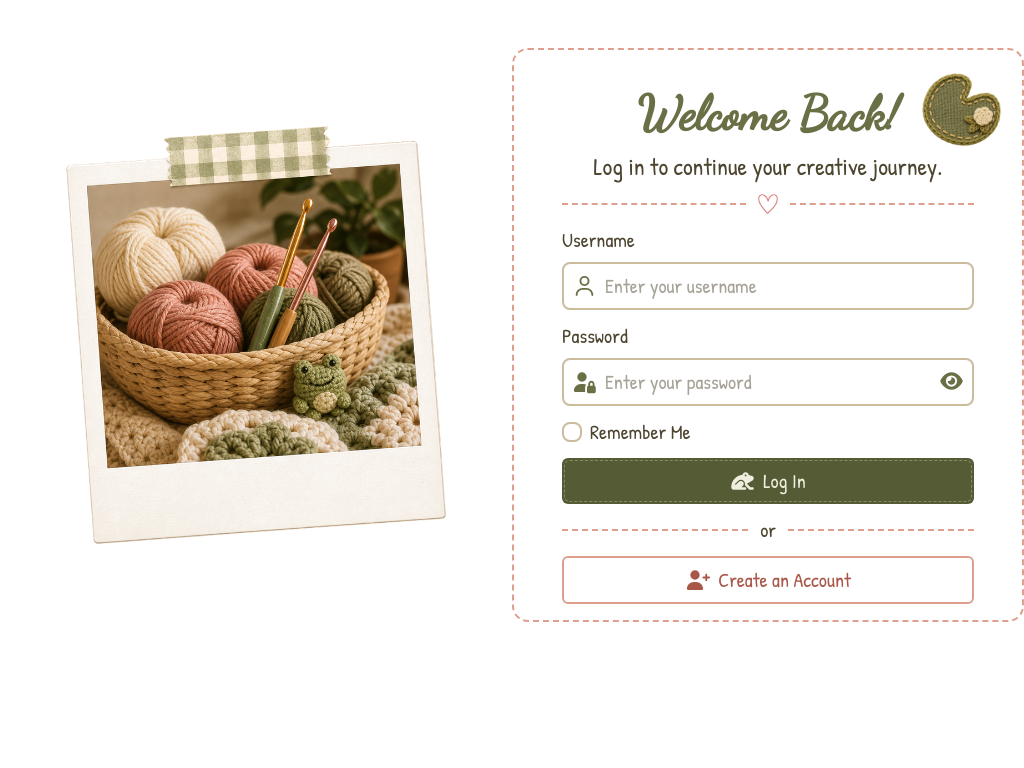
Scenario: Login › validates required credentials before submitting
Click the button "Log In". click: (768, 481)
box: [562,458,974,504]
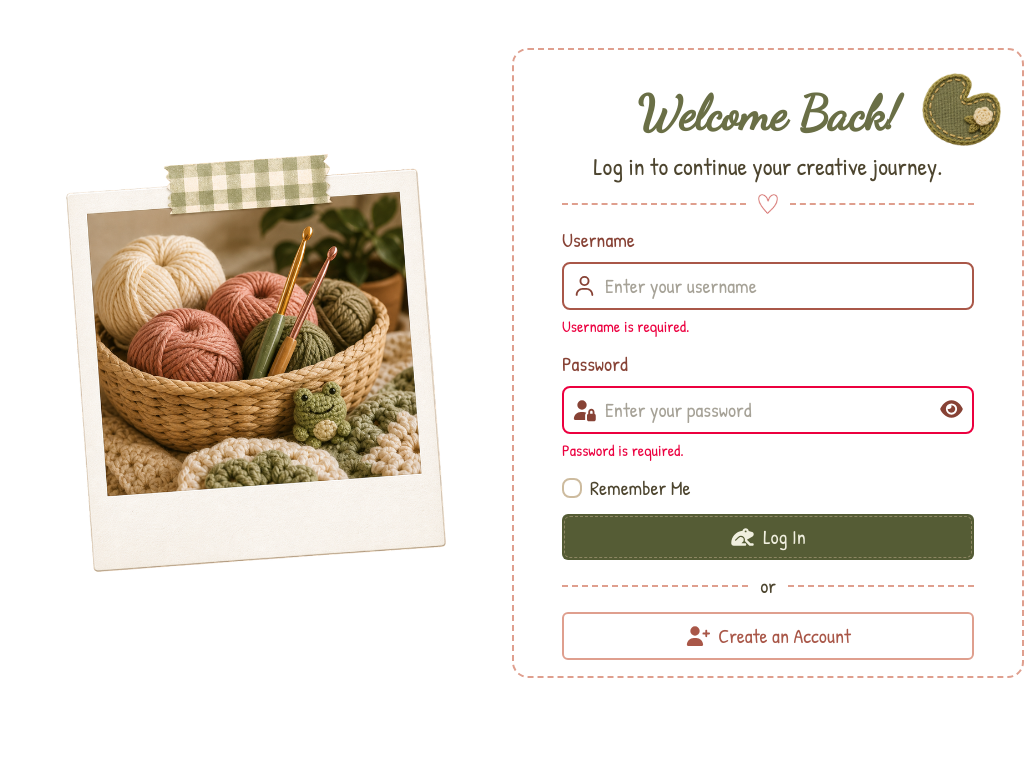
Now the text "Username is required." is shown, box [562,315,690,337]
Now the text "Password is required." is shown, box [562,439,684,461]
